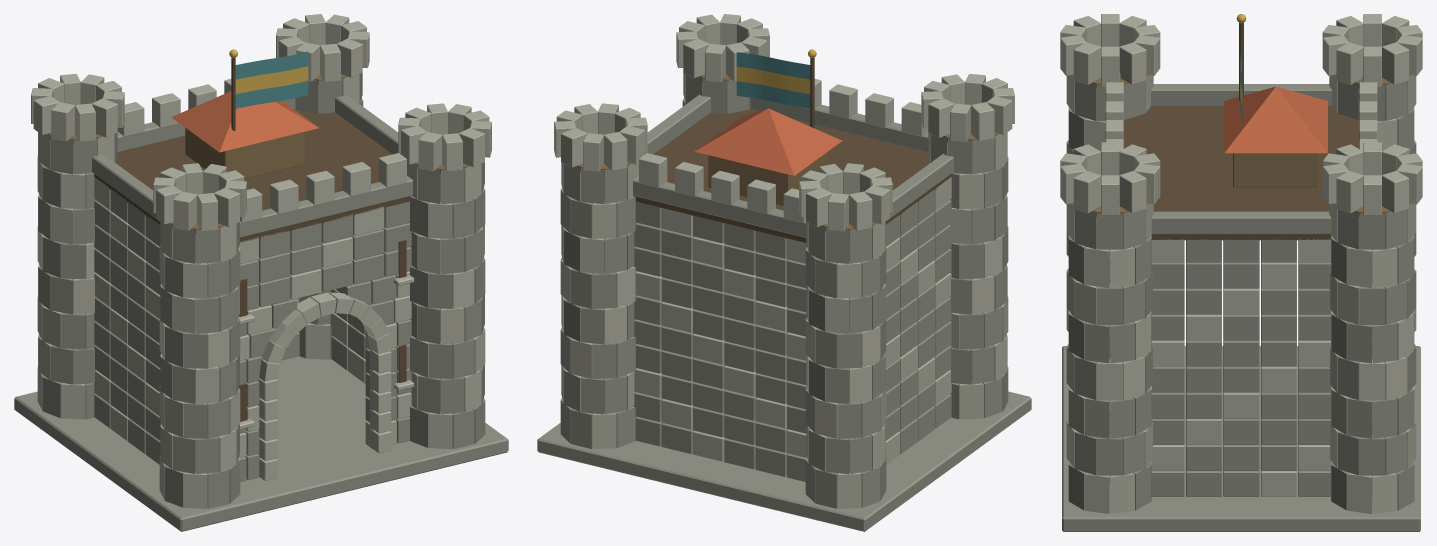
Rendered from castle-keep.glb.
The picture shows the model from 3 angles, left to right: view 1: azimuth 30°, elevation 25°; view 2: azimuth 150°, elevation 25°; view 3: azimuth 270°, elevation 25°; orthographic projection. The views are drawn at different scales.
Visible parts, largest first — view 1: Foundation_mesh, Battlements_mesh, KeepDeck_mesh, RoofShelter_mesh, EntranceArch_mesh, WallCourse.008_mesh, WallCourse.007_mesh, TowerCrown_mesh, TowerCrown.001_mesh, TowerCrown.002_mesh, WallCourse.009_mesh, TowerCrown.003_mesh (+35 smaller); view 2: Foundation_mesh, Battlements_mesh, RoofShelter_mesh, KeepDeck_mesh, WallCourse.004_mesh, WallCourse.001_mesh, WallCourse.007_mesh, WallCourse.002_mesh, WallCourse.005_mesh, WallCourse.006_mesh, WallCourse.003_mesh, WallCourse.008_mesh (+32 smaller); view 3: Foundation_mesh, KeepDeck_mesh, Battlements_mesh, RoofShelter_mesh, TowerCrown.003_mesh, TowerCrown.002_mesh, TowerCrown.001_mesh, TowerCrown_mesh, WallCourse.003_mesh, WallCourse.006_mesh, WallCourse.008_mesh, WallCourse.005_mesh (+26 smaller).
Boxes of the visible parts, bbox=[...] form: Foundation_mesh: bbox=[14, 356, 508, 531]; Battlements_mesh: bbox=[92, 79, 412, 237]; KeepDeck_mesh: bbox=[94, 109, 412, 242]; RoofShelter_mesh: bbox=[171, 91, 318, 178]; EntranceArch_mesh: bbox=[258, 292, 391, 480]; WallCourse.008_mesh: bbox=[94, 200, 411, 286]; WallCourse.007_mesh: bbox=[94, 225, 412, 310]; TowerCrown_mesh: bbox=[153, 163, 246, 233]; TowerCrown.001_mesh: bbox=[31, 74, 124, 143]; TowerCrown.002_mesh: bbox=[398, 103, 491, 173]; WallCourse.009_mesh: bbox=[94, 177, 409, 263]; TowerCrown.003_mesh: bbox=[276, 14, 369, 84]; Foundation_mesh: bbox=[537, 391, 1031, 531]; Battlements_mesh: bbox=[633, 79, 953, 237]; RoofShelter_mesh: bbox=[694, 108, 842, 205]; KeepDeck_mesh: bbox=[633, 109, 951, 242]; WallCourse.004_mesh: bbox=[633, 297, 951, 385]; WallCourse.001_mesh: bbox=[633, 370, 951, 457]; WallCourse.007_mesh: bbox=[633, 225, 951, 312]; WallCourse.002_mesh: bbox=[634, 345, 951, 433]; WallCourse.005_mesh: bbox=[634, 273, 952, 360]; WallCourse.006_mesh: bbox=[636, 248, 951, 336]; WallCourse.003_mesh: bbox=[636, 321, 951, 409]; WallCourse.008_mesh: bbox=[634, 200, 951, 288]; Foundation_mesh: bbox=[1062, 346, 1420, 531]; KeepDeck_mesh: bbox=[1123, 106, 1359, 240]; Battlements_mesh: bbox=[1105, 73, 1377, 234]; RoofShelter_mesh: bbox=[1224, 86, 1327, 187]; TowerCrown.003_mesh: bbox=[1322, 142, 1422, 216]; TowerCrown.002_mesh: bbox=[1060, 142, 1160, 216]; TowerCrown.001_mesh: bbox=[1322, 14, 1422, 88]; TowerCrown_mesh: bbox=[1060, 14, 1160, 88]; WallCourse.003_mesh: bbox=[1151, 392, 1372, 418]; WallCourse.006_mesh: bbox=[1151, 314, 1372, 340]; WallCourse.008_mesh: bbox=[1151, 262, 1372, 288]; WallCourse.005_mesh: bbox=[1151, 340, 1372, 366].
Bounding box in the file's own units: 5.9 × 6.67 × 5.25.
